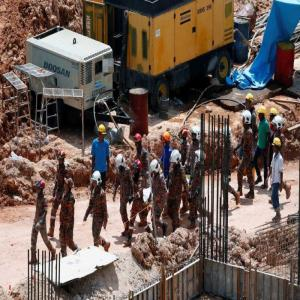red: (37, 180, 47, 196), (133, 161, 142, 177), (180, 128, 189, 143), (135, 134, 143, 149), (66, 179, 74, 193), (58, 152, 66, 165)
white: (172, 150, 183, 166), (196, 151, 207, 166), (93, 171, 102, 189), (191, 127, 201, 143), (117, 155, 126, 171), (243, 111, 252, 127), (274, 116, 283, 132), (151, 161, 160, 176), (223, 127, 232, 142)
yellow: (162, 133, 171, 148), (273, 138, 282, 153), (246, 94, 254, 110), (99, 125, 107, 140), (259, 107, 267, 121), (270, 109, 278, 121)
